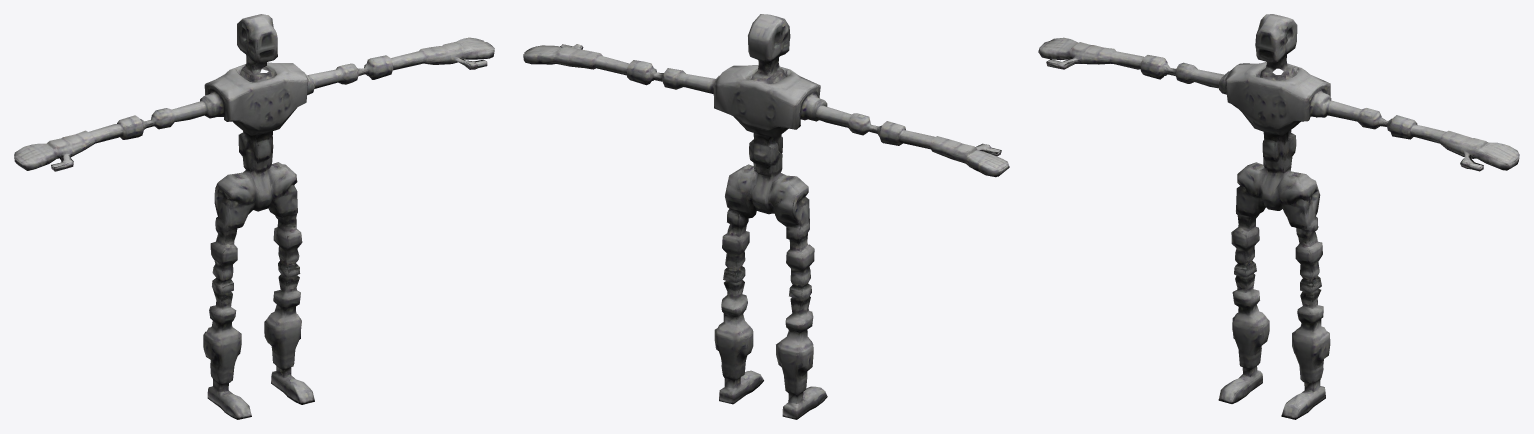
Rendered from hunter.glb.
3 views of the same model, side by side, from view 1: azimuth 30°, elevation 25°; view 2: azimuth 150°, elevation 25°; view 3: azimuth 330°, elevation 25° (orthographic).
Parts seen in each view (by area): view 1: hunter; view 2: hunter; view 3: hunter.
Boxes of the visible parts, x1,y1,x2,y2 form: hunter: (14, 14, 494, 419); hunter: (523, 14, 1009, 419); hunter: (1038, 14, 1519, 419).
Bounding box in the file's own units: 1 × 0.7699 × 0.123.
Materials: 1 (1 with a texture image).
